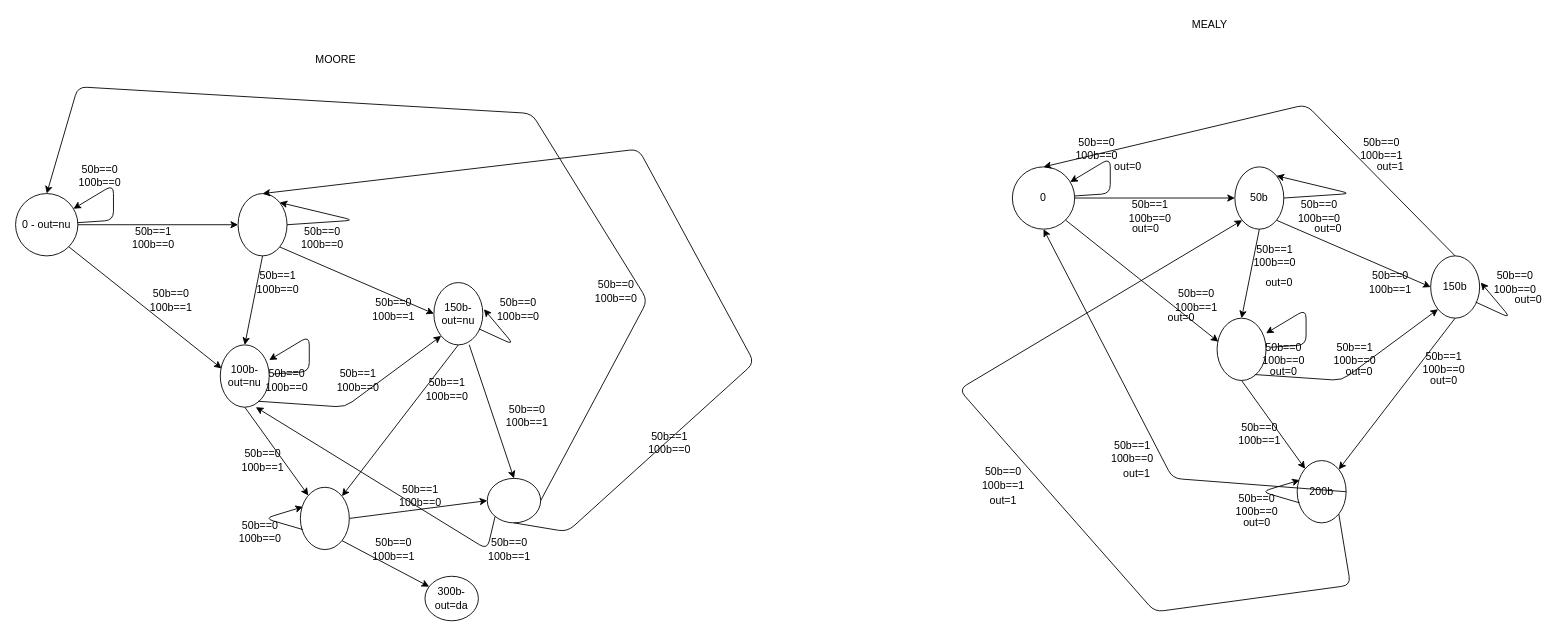
Image size: 1562x636. Some labels were removed from this diagram. The shapes that lost their labels are listed below. From the top down, each one's centre as x and y in pixels, then its label:
At (262,224): "50b-out=nu".
At (1241,348): "100b".
At (324,518): "200b-out=nu".
At (513,500): "250b-out=da".
